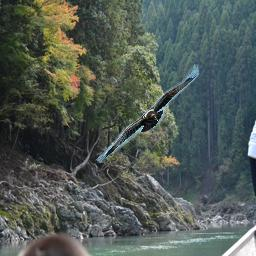Crow: (95, 64, 201, 163)
